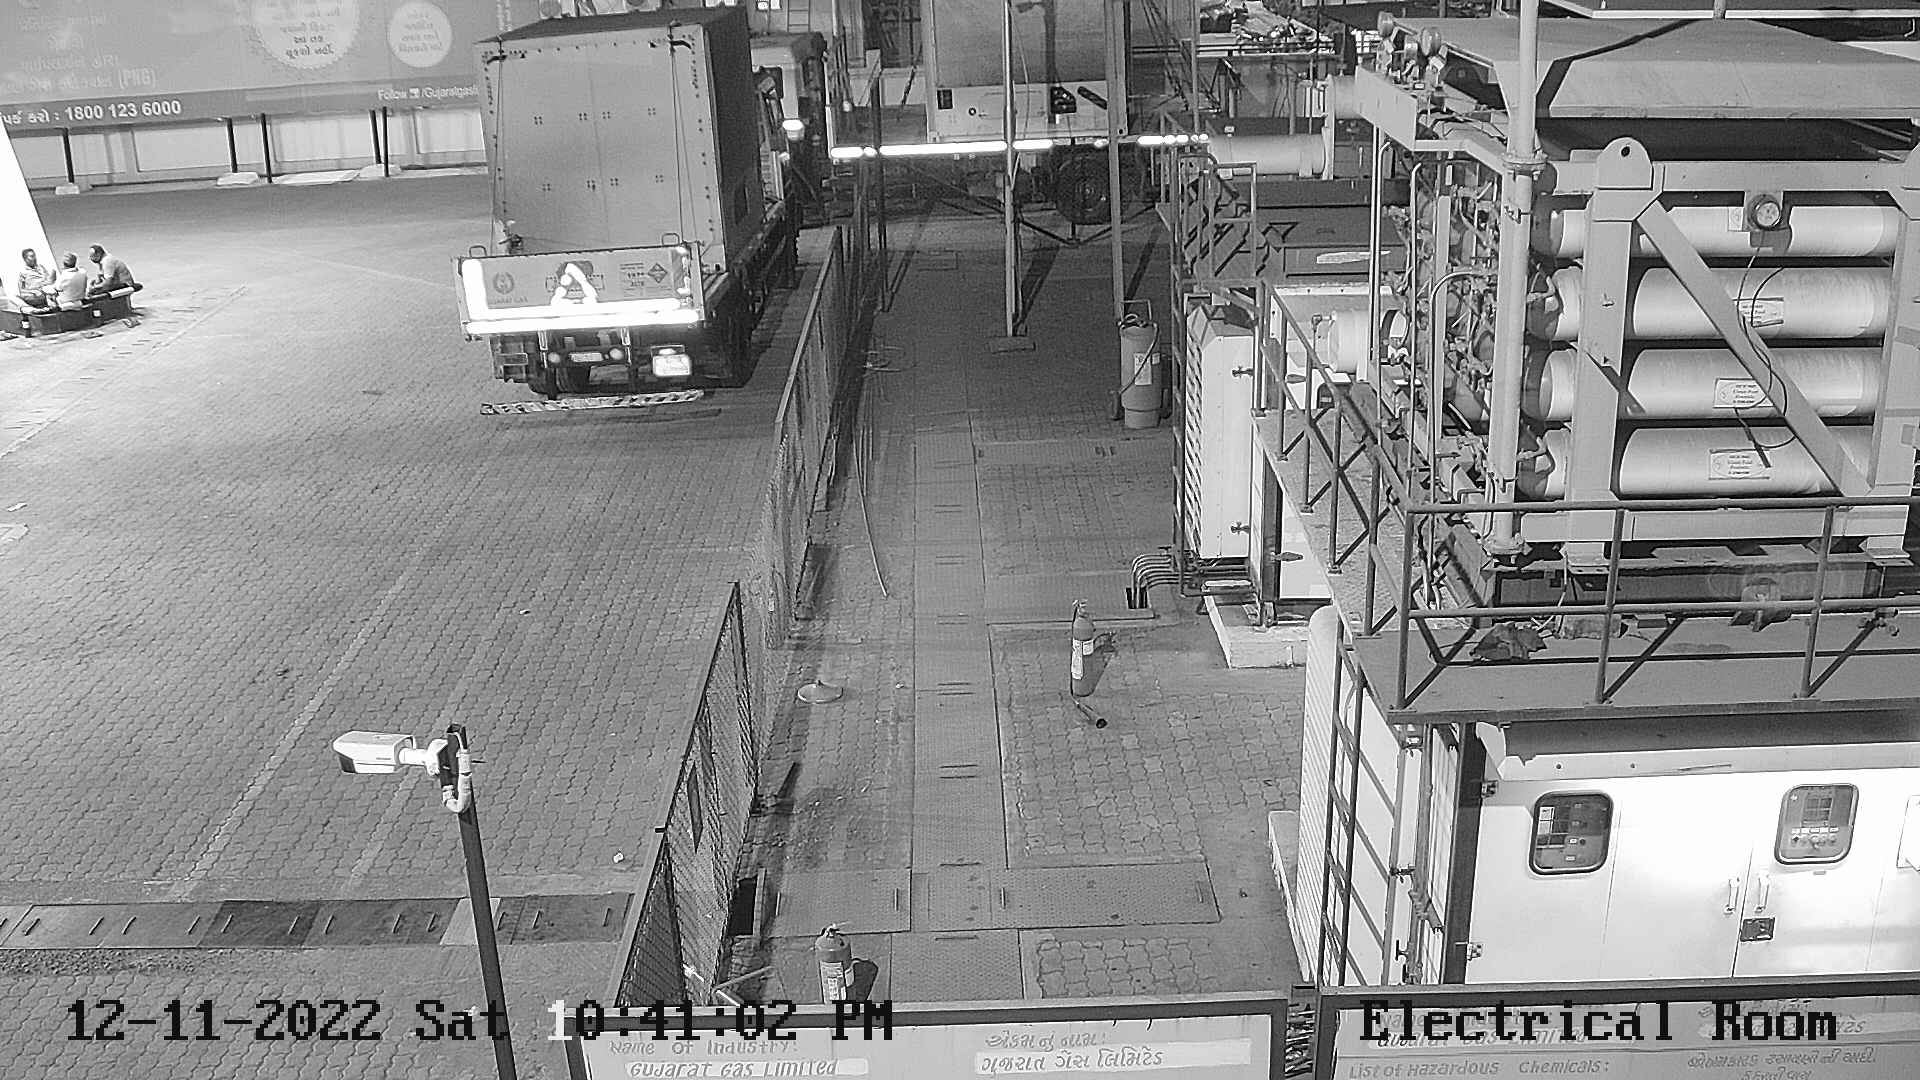HMV: (446, 3, 808, 426), (741, 1, 1245, 233)
Others: (83, 233, 138, 302), (45, 240, 87, 320), (11, 236, 40, 302)
